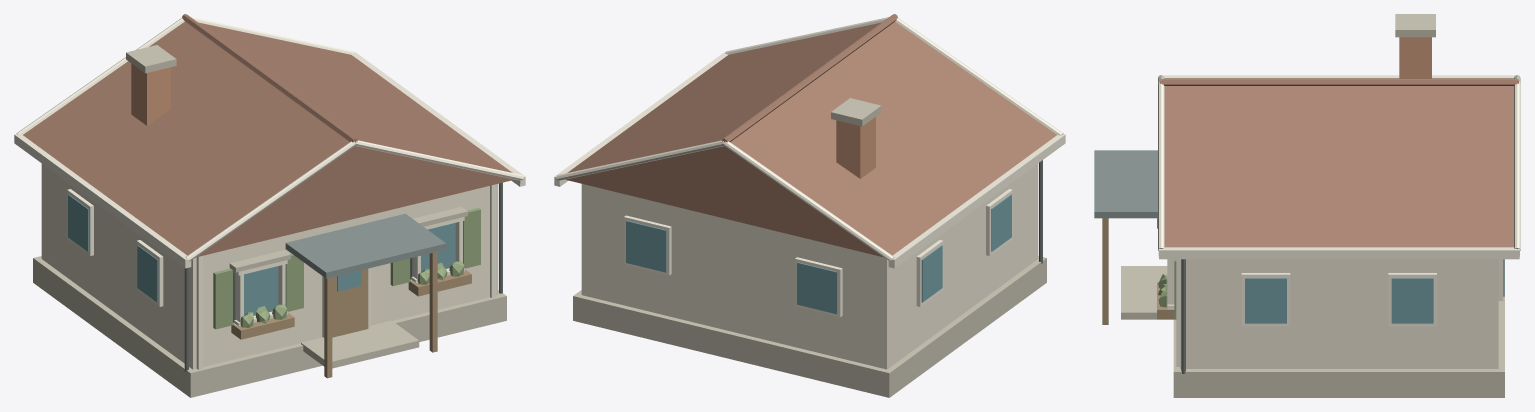
The model's file is home-0.glb.
3 views of the same model, side by side, from view 1: azimuth 30°, elevation 25°; view 2: azimuth 150°, elevation 25°; view 3: azimuth 270°, elevation 25° (orthographic). The views are drawn at different scales.
Size of the model in its own units: 9.36 by 6.29 by 9.64.
